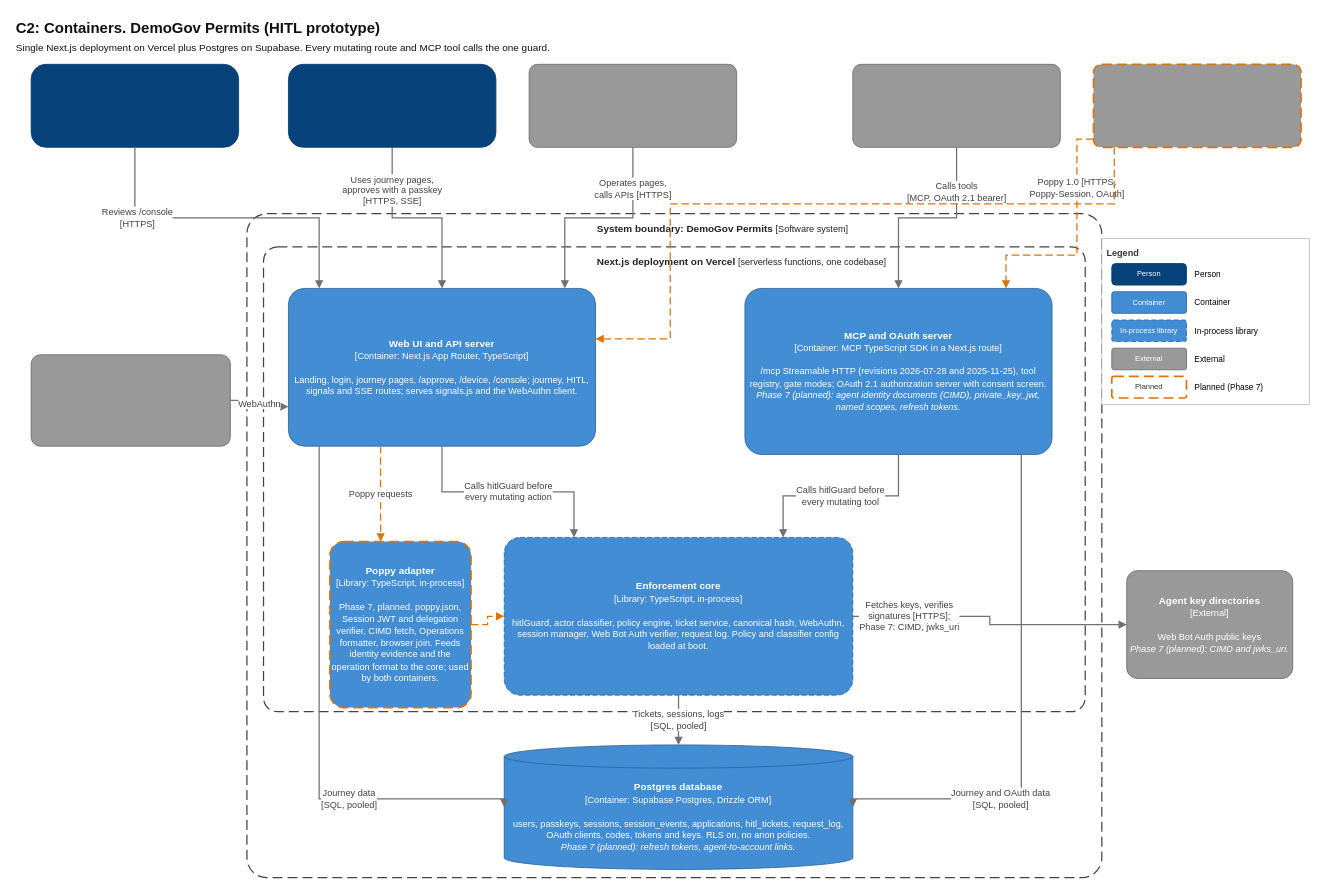
Some shapes in this 1324 by 892 pixel diagram are drawn without their labels. The shapes that lost their labels are listed below. From the top down, each one's centre as x and y in pixels, then its label:
At [134,105]: "Tester / admin [Person] Reviews the console".
At [392,105]: "Human operator [Person] Approver and account holder".
At [632,105]: "Browser agents [External] Route 2".
At [956,105]: "MCP agents [External] Route 1".
At [1196,105]: "Poppy agents [External] Phase 7, planned".
At [130,400]: "Passkey authenticator [External device] Phone or platform".
